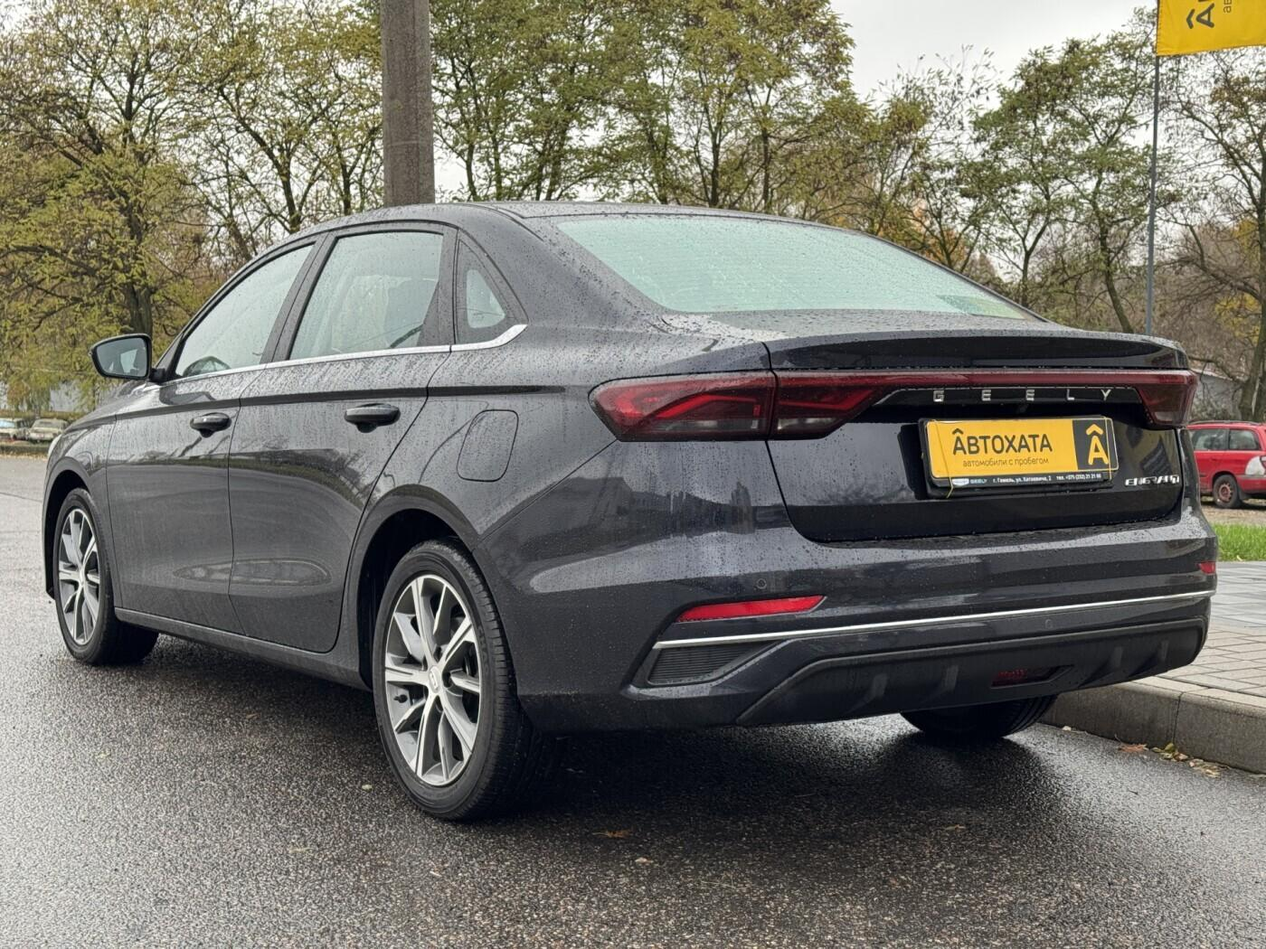Emgrand_2021: (39, 187, 1222, 825)
